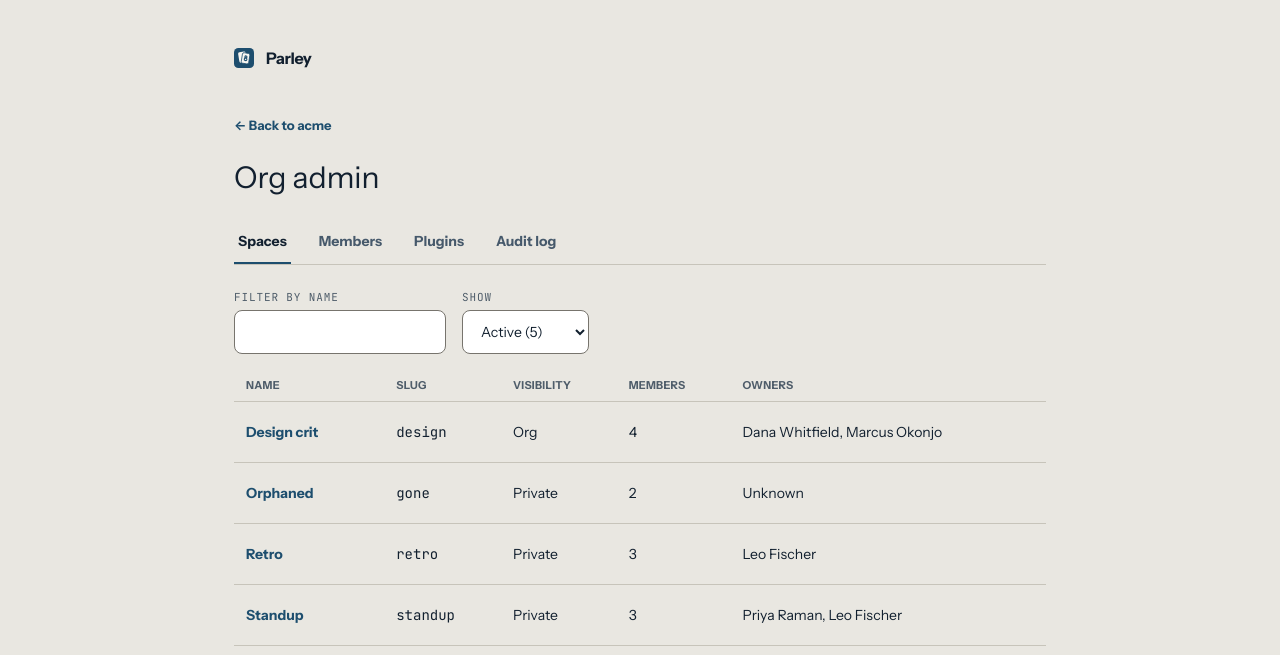
Test: org admin hub › space panel › says the rename happened
Step 1. Click the button named "Manage Design crit" → [282, 432], box [246,410,318,454]
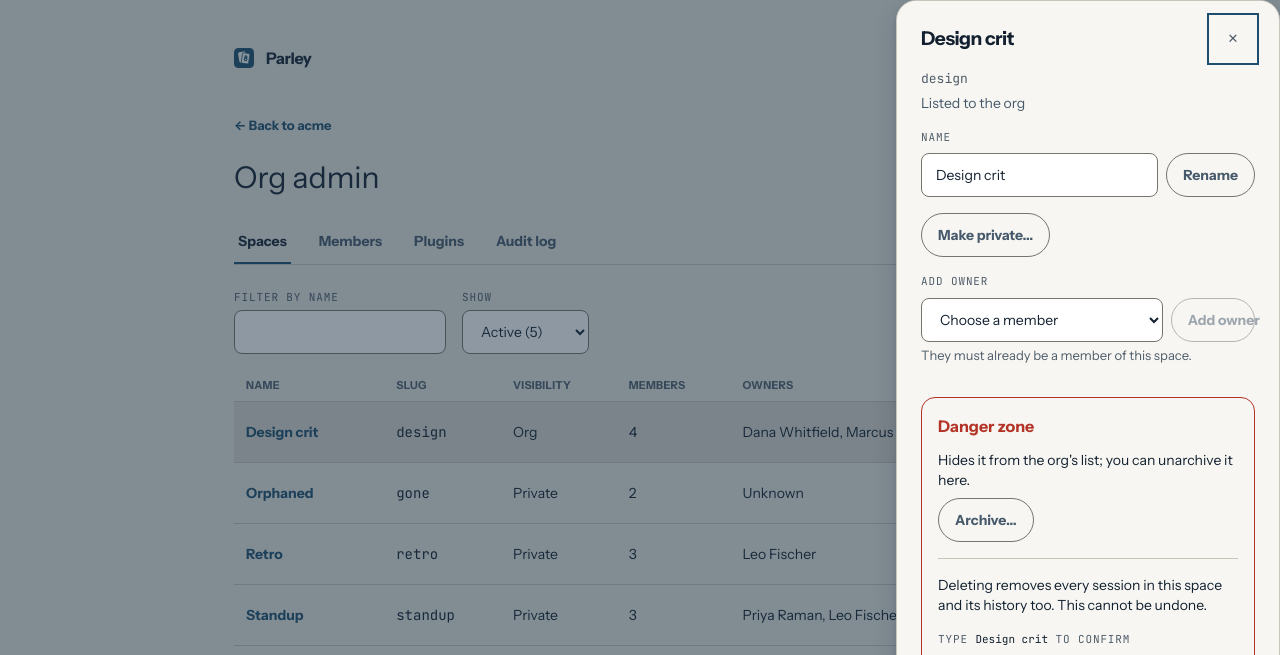
Step 2. Replace the text in the field labelled "Name" with "Design review" → [1040, 175], box [921,153,1158,197]
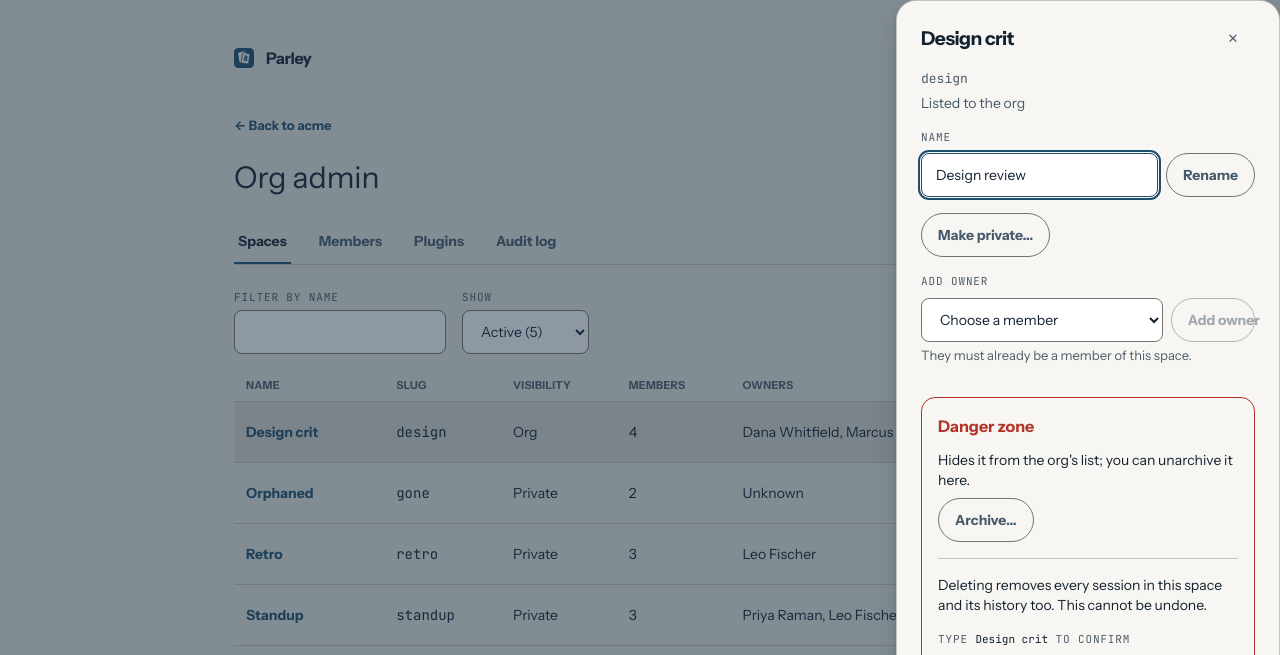
Step 3. Click the button "Rename" → [1211, 175], box [1166,153,1255,197]
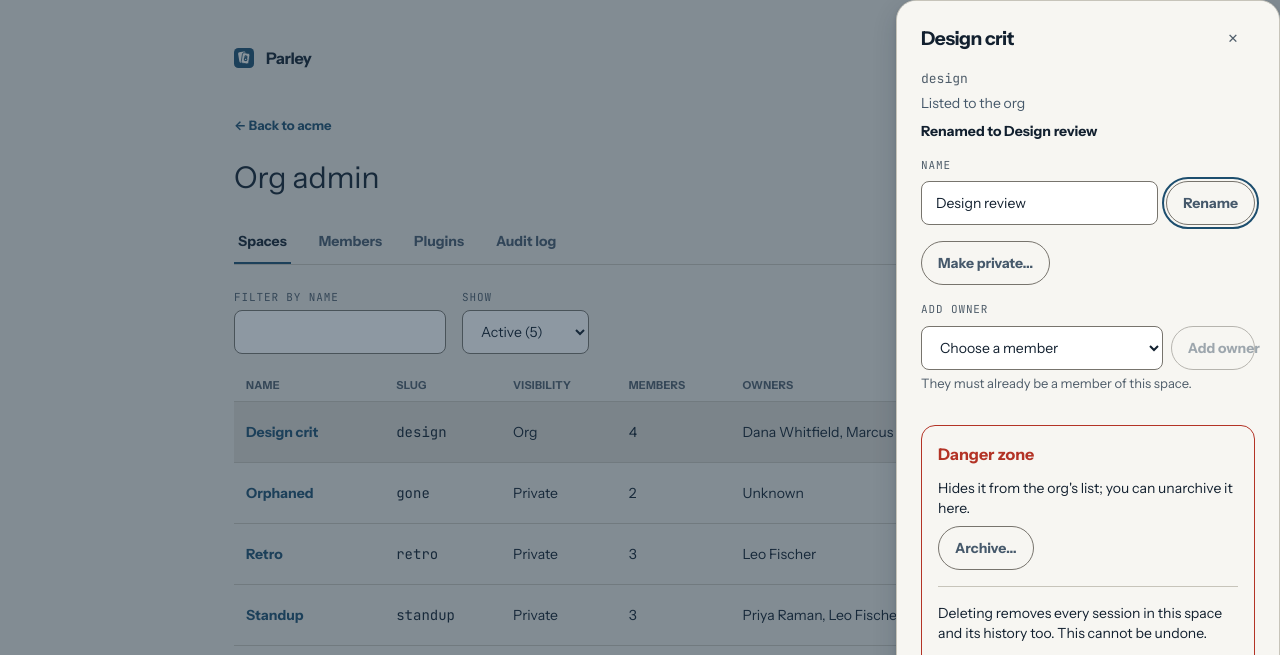
Expected: the message reads "Renamed to Design review", [921,122,1097,140]
